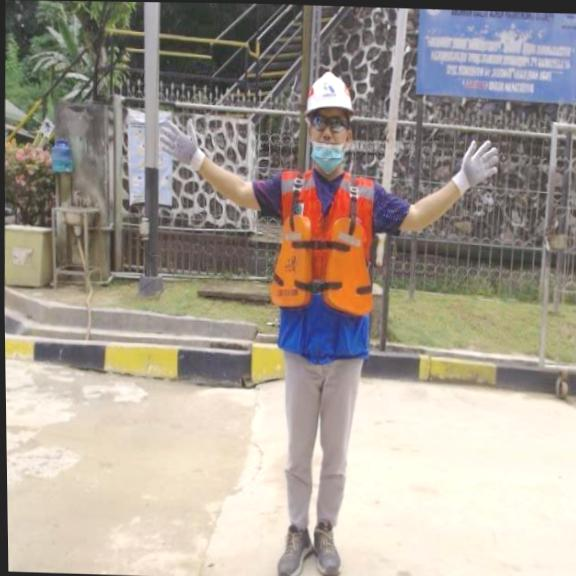safety_vest: (268, 213, 372, 312)
